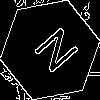N: (25, 25, 81, 82)
